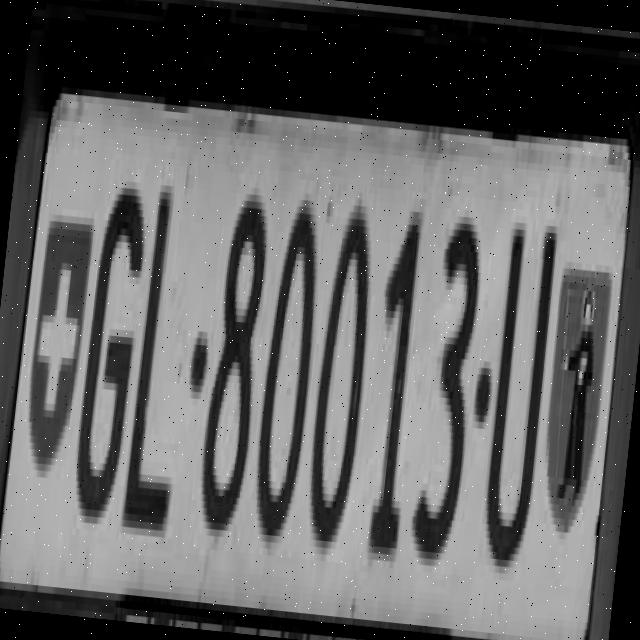Autre: (0, 89, 630, 640)
